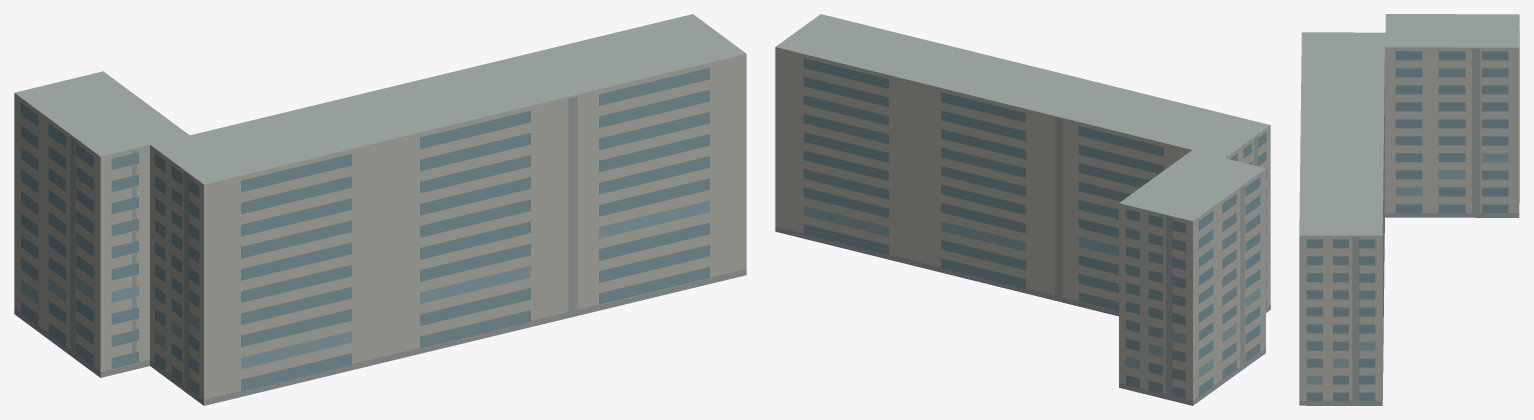
Rendered from residential-4c1c13f5-d01e-4fcd-9d59-bfe758af5a38.glb.
3 renders of one model, left to right at view 1: azimuth 30°, elevation 25°; view 2: azimuth 150°, elevation 25°; view 3: azimuth 270°, elevation 25°, orthographic. The views are drawn at different scales.
Parts seen in each view (by area): view 1: residential-4c1c13f5-d01e-4fcd-9d59-bfe758af5a38.tmp; view 2: residential-4c1c13f5-d01e-4fcd-9d59-bfe758af5a38.tmp; view 3: residential-4c1c13f5-d01e-4fcd-9d59-bfe758af5a38.tmp.
Boxes of the visible parts, box(x1,y1,x2,y2) form: residential-4c1c13f5-d01e-4fcd-9d59-bfe758af5a38.tmp: box(14, 14, 746, 405); residential-4c1c13f5-d01e-4fcd-9d59-bfe758af5a38.tmp: box(775, 14, 1270, 405); residential-4c1c13f5-d01e-4fcd-9d59-bfe758af5a38.tmp: box(1299, 14, 1519, 405).
Bounding box in the file's own units: 75.4 × 27 × 31.69.
